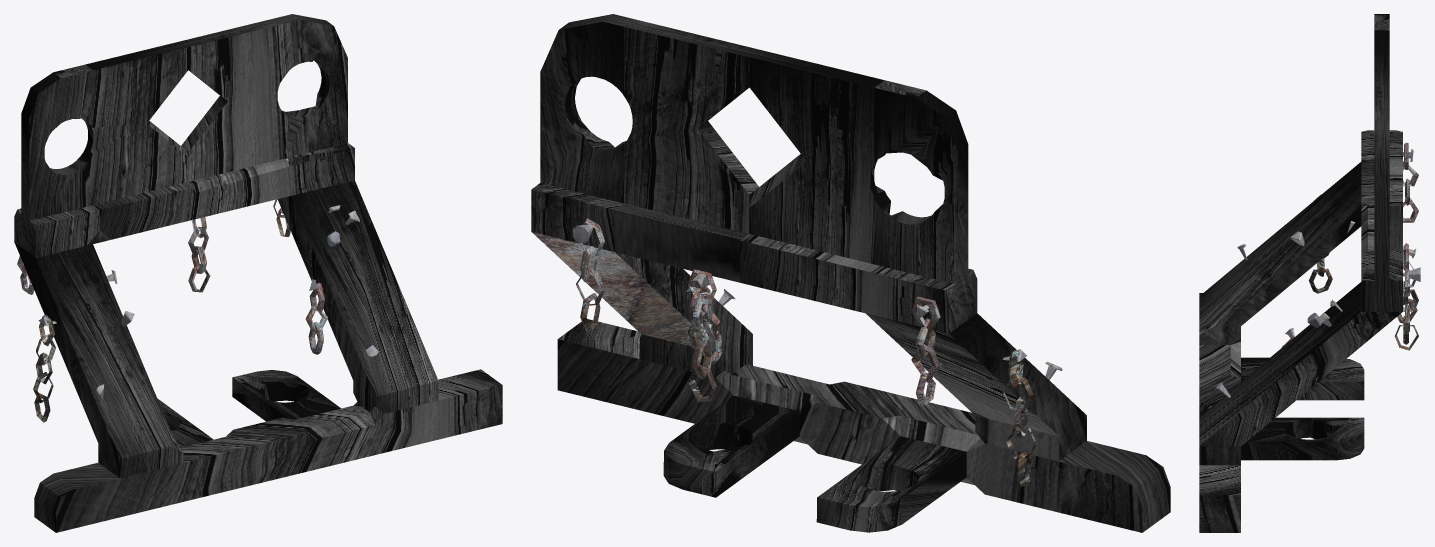
Rendered from PilloryREDUCED.fbx.
3 views of the same model, side by side, from view 1: azimuth 30°, elevation 25°; view 2: azimuth 150°, elevation 25°; view 3: azimuth 270°, elevation 25° (orthographic). The views are drawn at different scales.
Parts seen in each view (by area): view 1: polySurfaceShape3; view 2: polySurfaceShape3; view 3: polySurfaceShape3.
Boxes of the visible parts, box(x1,y1,x2,y2) form: polySurfaceShape3: box(14, 14, 502, 532); polySurfaceShape3: box(531, 14, 1170, 532); polySurfaceShape3: box(1199, 14, 1420, 532).
Size of the model in its own units: 11.97 by 9.35 by 5.32.
4 materials, 3 textured.
